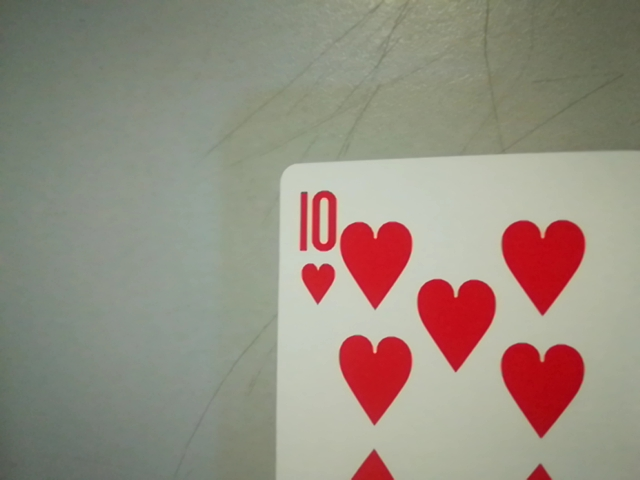hx 10: (285, 181, 344, 310)
